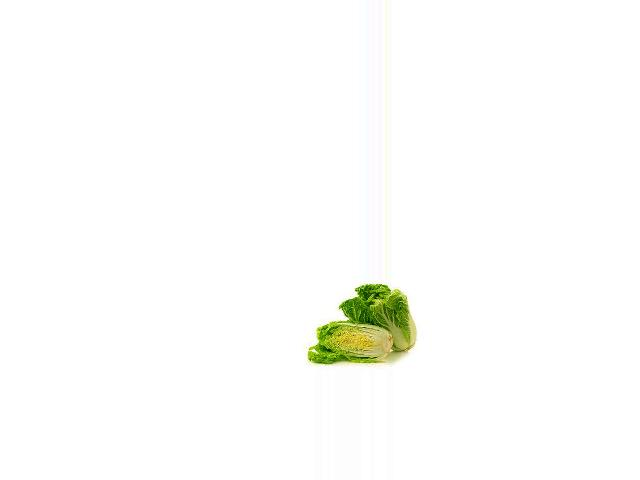lettuce: (334, 280, 418, 356)
